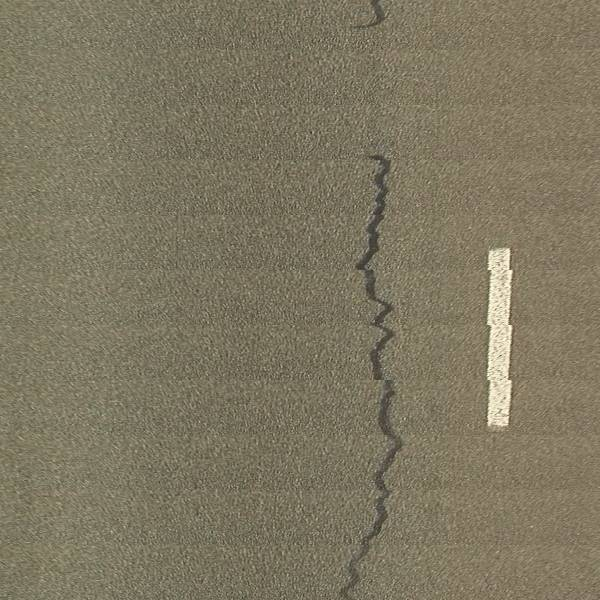road_damage: (336, 153, 406, 600), (351, 1, 389, 32)
